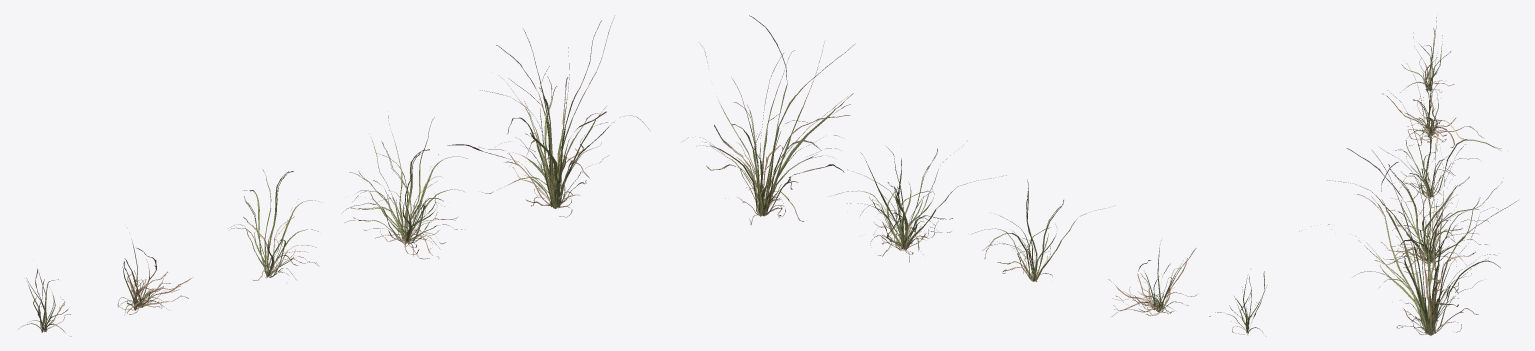
File: grass_medium_02_1k.gltf
3 views of the same model, side by side, from view 1: azimuth 30°, elevation 25°; view 2: azimuth 150°, elevation 25°; view 3: azimuth 270°, elevation 25° (orthographic). The views are drawn at different scales.
Parts seen in each view (by area): view 1: grass_medium_02_e, grass_medium_02_d, grass_medium_02_c, grass_medium_02_b, grass_medium_02_a; view 2: grass_medium_02_e, grass_medium_02_d, grass_medium_02_c, grass_medium_02_b, grass_medium_02_a; view 3: grass_medium_02_e, grass_medium_02_d, grass_medium_02_c, grass_medium_02_b, grass_medium_02_a.
Boxes of the visible parts, x1,y1,x2,y2 form: grass_medium_02_e: (447, 17, 649, 217); grass_medium_02_d: (341, 115, 467, 259); grass_medium_02_c: (228, 169, 319, 280); grass_medium_02_b: (117, 239, 192, 315); grass_medium_02_a: (19, 269, 71, 336); grass_medium_02_e: (684, 15, 854, 224); grass_medium_02_d: (830, 146, 1006, 262); grass_medium_02_c: (971, 179, 1105, 281); grass_medium_02_b: (1108, 240, 1197, 316); grass_medium_02_a: (1209, 269, 1267, 334); grass_medium_02_e: (1299, 144, 1518, 335); grass_medium_02_d: (1327, 144, 1502, 274); grass_medium_02_c: (1387, 90, 1501, 214); grass_medium_02_b: (1382, 53, 1483, 151); grass_medium_02_a: (1400, 17, 1454, 92).
Bounding box in the file's own units: 1.31 × 0.4053 × 0.4332.
Materials: 1 (1 with a texture image).
